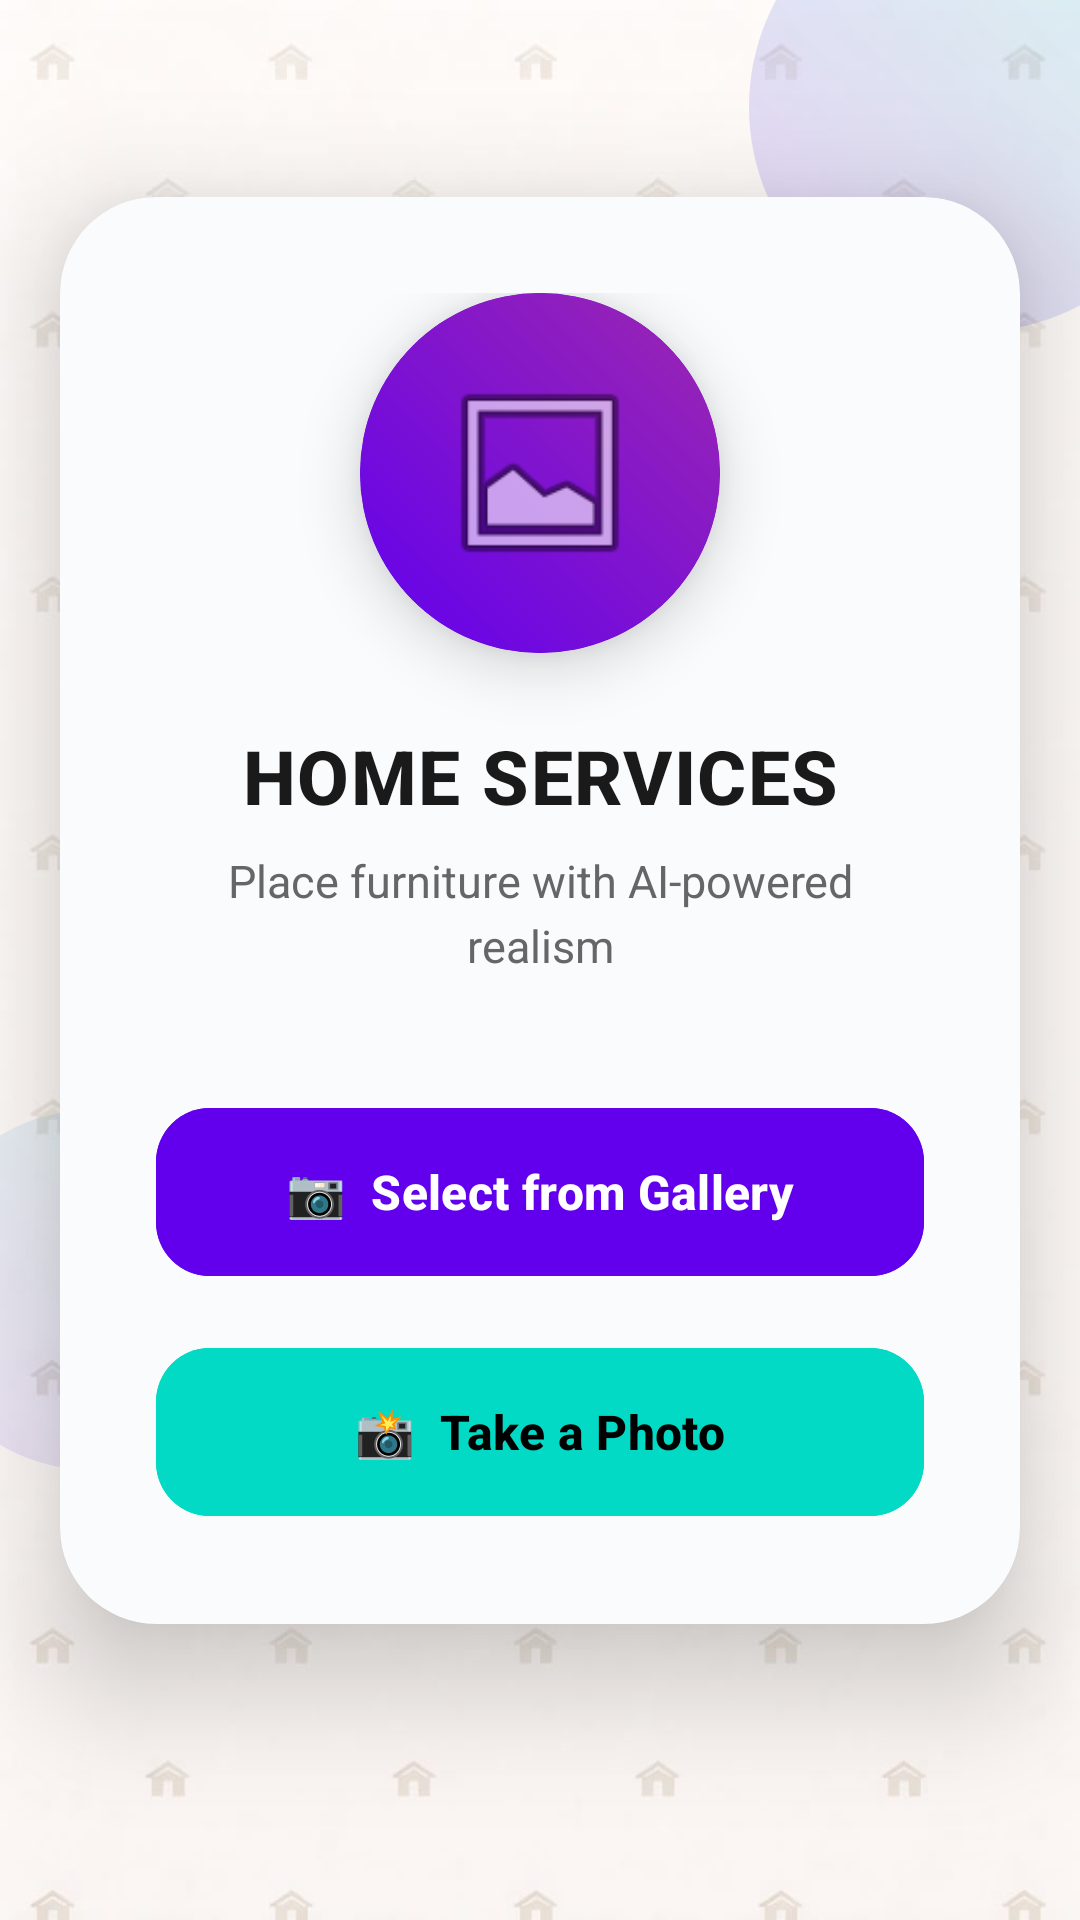

Where icons sit on this 1080×1920 app screen, as (x1, y1, x2, y2):
gallery: (461, 368, 645, 553)
